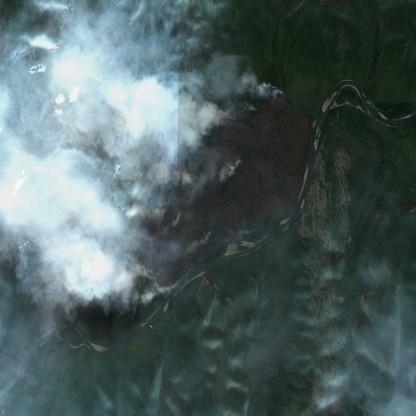fire: (143, 266, 180, 300), (263, 81, 288, 104), (228, 154, 247, 178), (200, 226, 214, 251), (239, 226, 257, 241), (173, 208, 187, 227), (246, 100, 259, 118)
